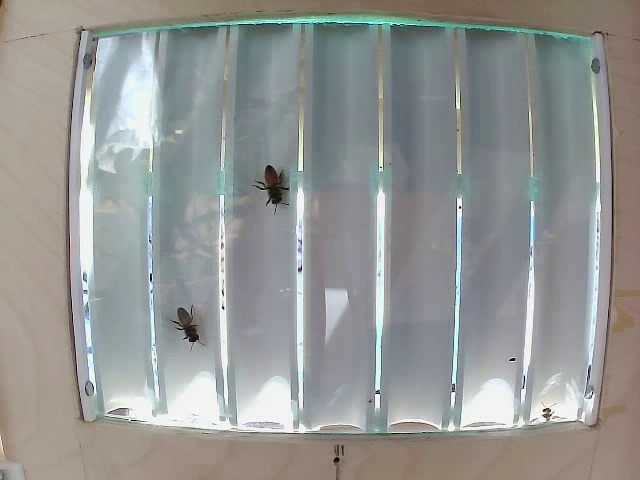bee: (258, 160, 298, 215), (172, 296, 207, 352)
